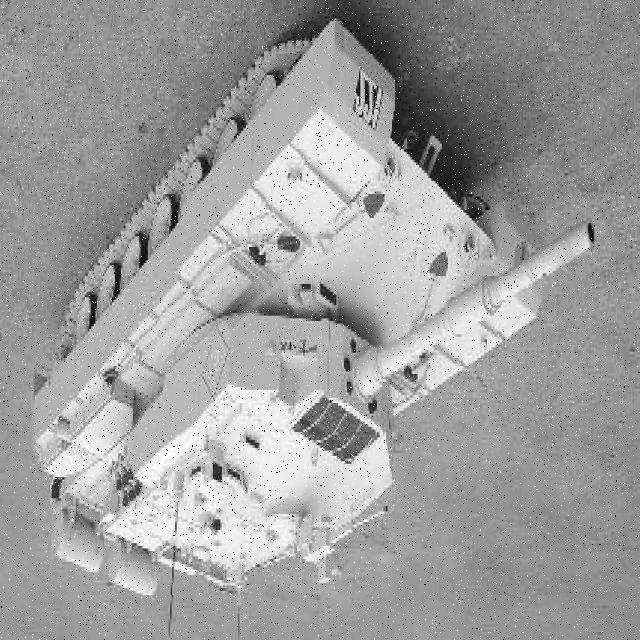MIL_MBT: (29, 23, 603, 594)
